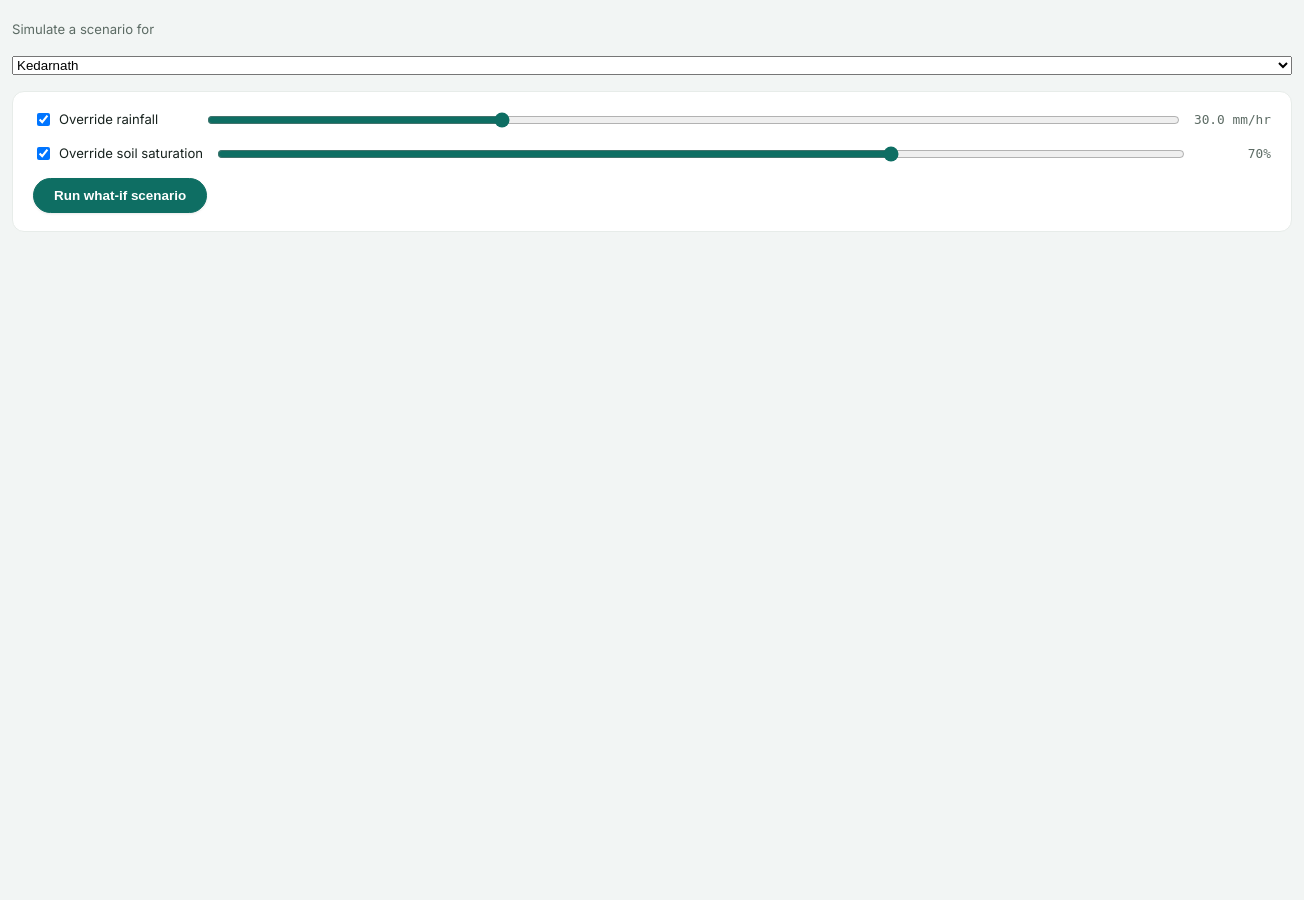
Test: WhatIfPanel › runs a simulation for the selected village and shows baseline vs hypothetical results
Click the button "Run what-if scenario" at (120, 195), box [33,178,207,213]
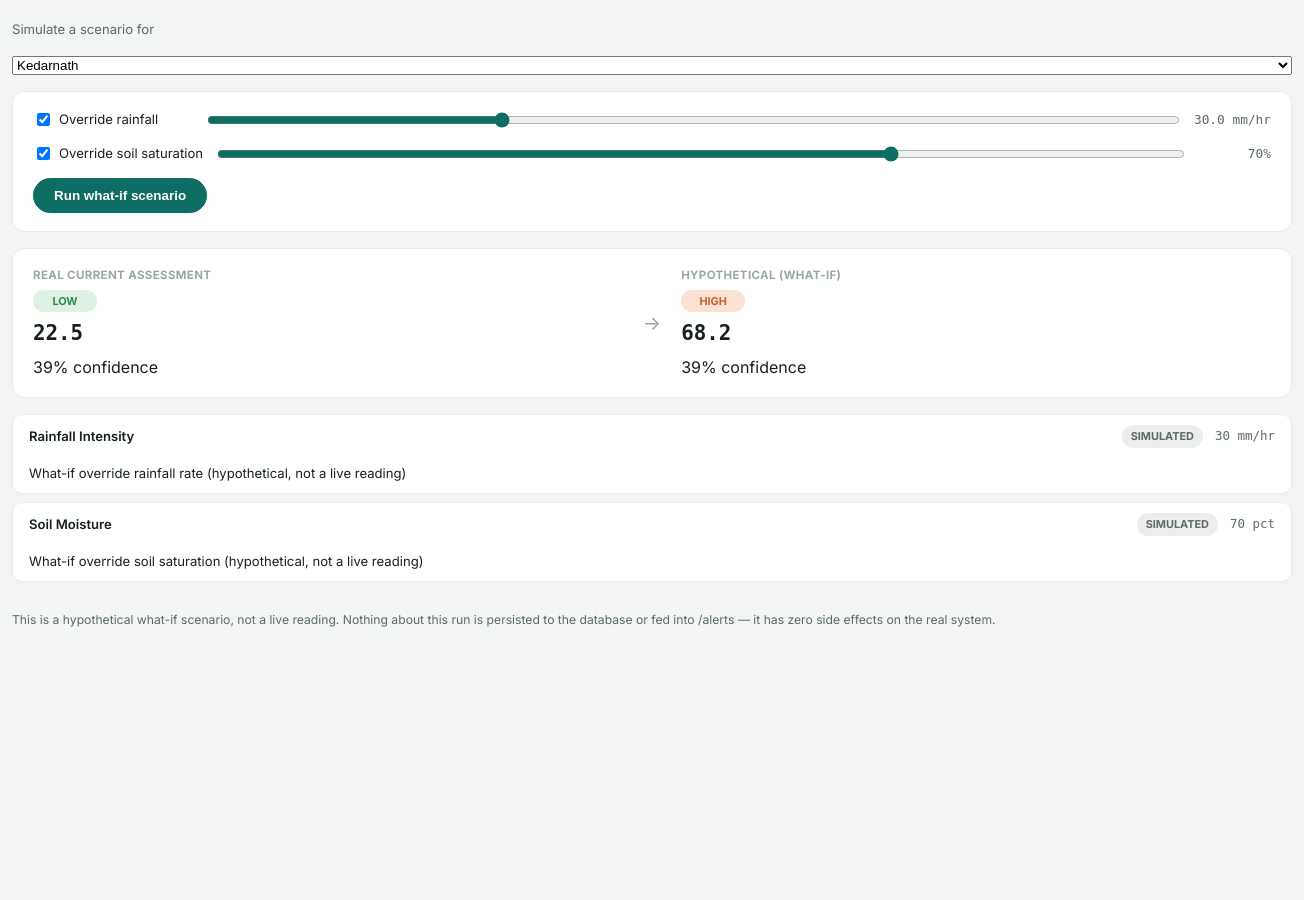
Result: the text "Real current assessment" is shown at [33,267,211,284]
Result: the text "Hypothetical (what-if)" is shown at [681,267,841,284]
Result: the text "22.5" is shown at [33,318,83,350]
